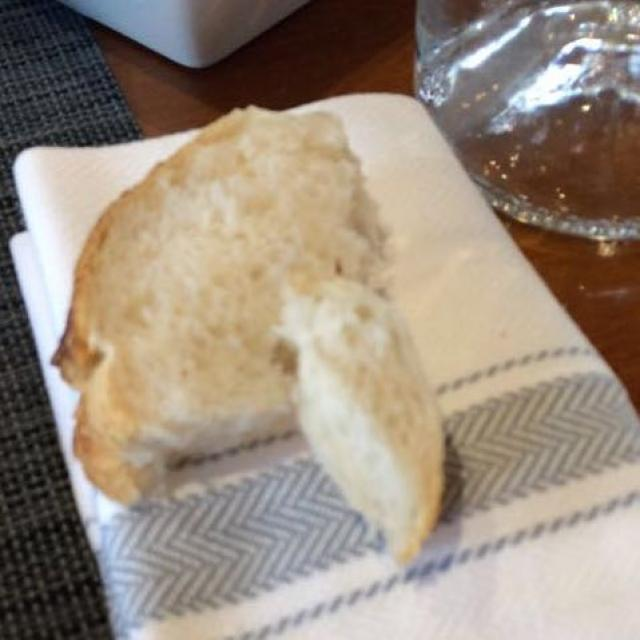bread: (58, 104, 454, 562)
